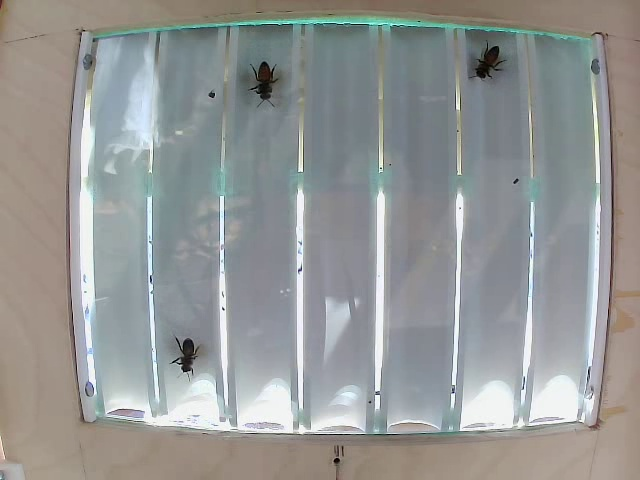bee: (247, 57, 287, 116), (168, 331, 211, 381), (471, 35, 498, 84)
